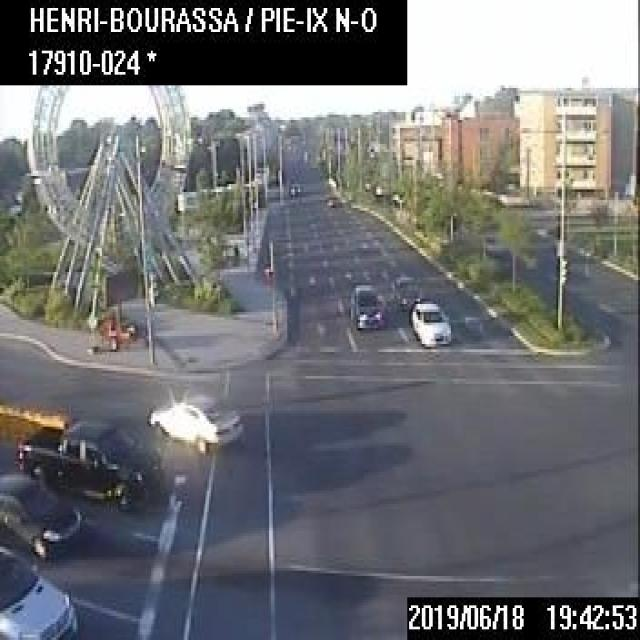construction: (90, 264, 135, 350)
vehicle: (17, 419, 162, 510), (0, 472, 82, 560), (0, 543, 76, 637), (147, 395, 242, 453), (409, 298, 449, 346), (345, 283, 382, 328), (391, 274, 420, 306), (285, 176, 302, 195)
